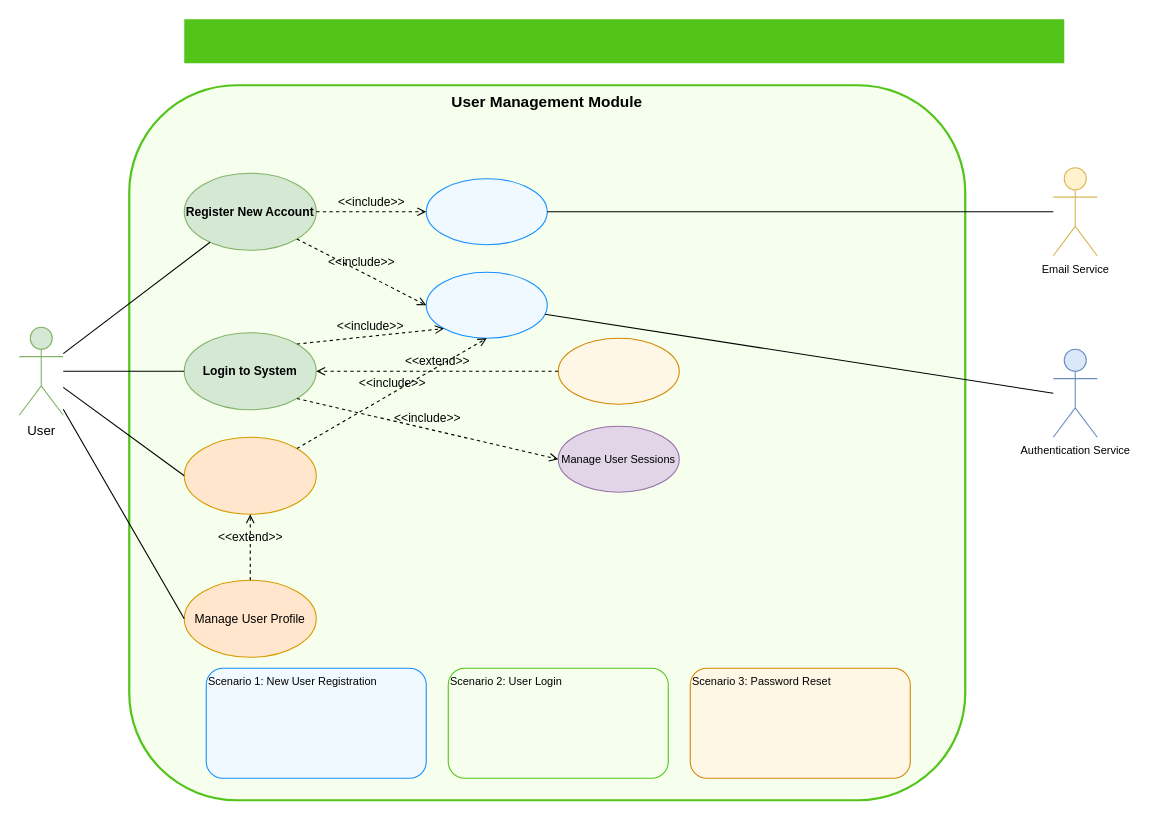
Some shapes in this 1150 by 820 pixel diagram are drawn without their labels. Here are the shapes that lost their labels. From the top down, the centre of each, then its label:
(x=624, y=41): UCdetail-06: User Management Module
(x=486, y=211): Send Email Verification
(x=486, y=304): Validate User Credentials
(x=618, y=370): Reset Password
(x=249, y=475): Change Password
